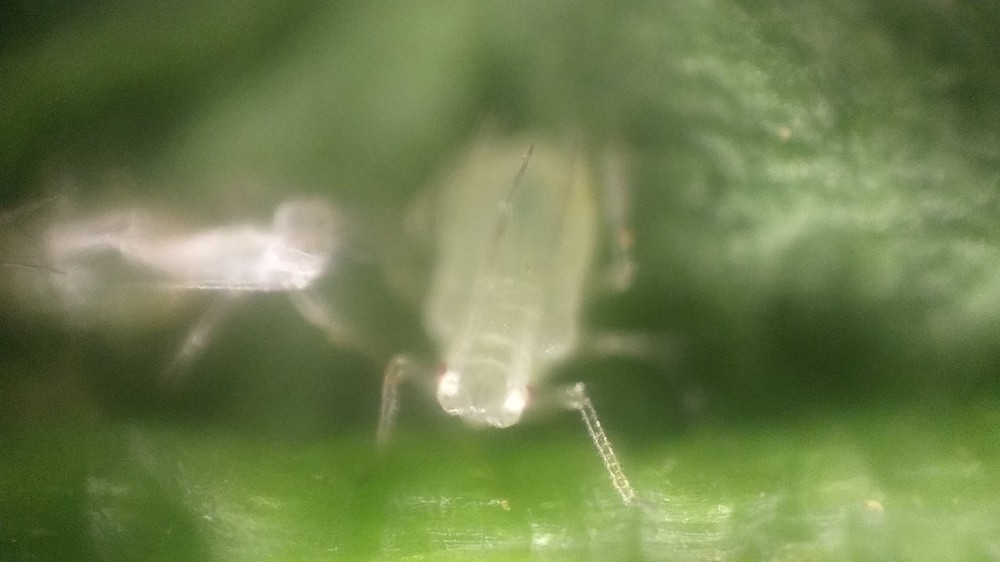Pulgon: (369, 101, 708, 515)
